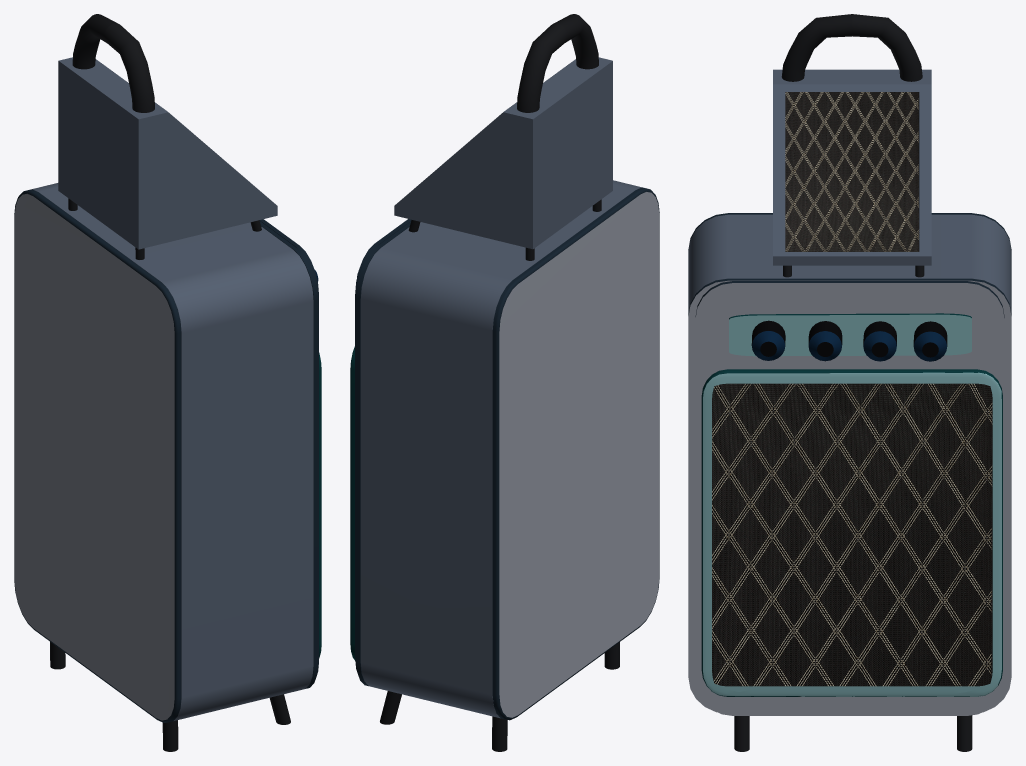
The model's file is ampMarceline.obj.
3 renders of one model, left to right at view 1: azimuth 30°, elevation 25°; view 2: azimuth 150°, elevation 25°; view 3: azimuth 270°, elevation 25°, orthographic.
Visible parts, largest first — view 1: ampMarceline_pCylinder14; view 2: ampMarceline_pCylinder14; view 3: ampMarceline_pCylinder14.
Part boxes in pixels (left/top/right/bottom): ampMarceline_pCylinder14: left=14, top=14, right=321, bottom=751; ampMarceline_pCylinder14: left=350, top=14, right=659, bottom=751; ampMarceline_pCylinder14: left=688, top=14, right=1011, bottom=751.
Size of the model in its own units: 1.28 by 4.71 by 2.03.
Materials: 6 (6 with a texture image).
